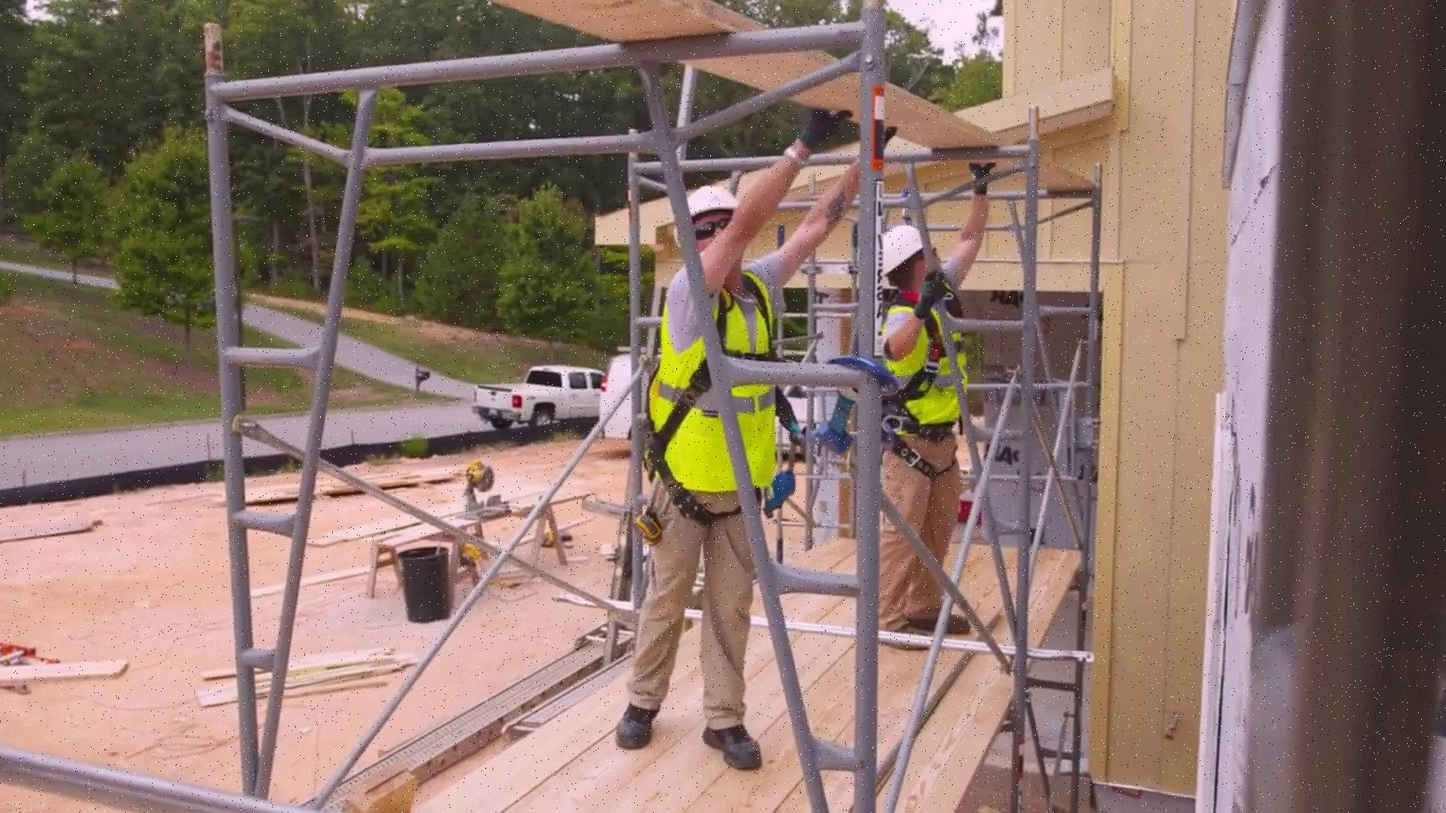Hard_hat: (866, 217, 930, 279), (673, 182, 745, 226)
Vest: (649, 283, 790, 494), (872, 303, 971, 431)
